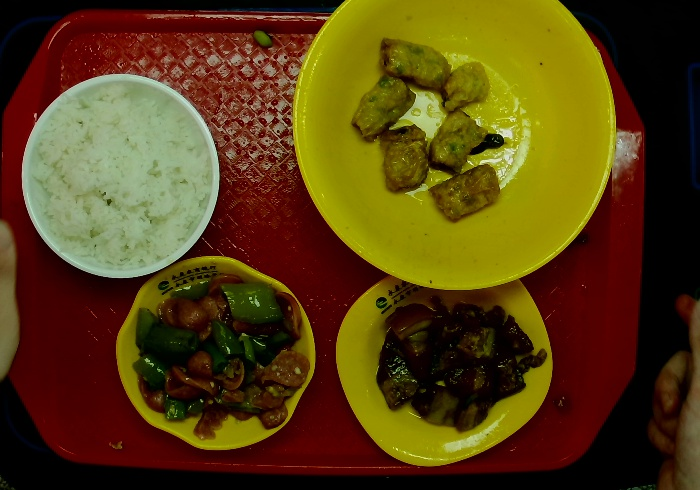YKMZ-Fan_Wan: (19, 66, 228, 284)
YKMZ-Huang_Se_Ao_Bian_Wan: (112, 247, 321, 453)
YKMZ-Huang_Se_Fang_Die: (331, 266, 559, 472)
YKMZ-Huang_Se_Tang_Wan: (292, 1, 622, 296)
